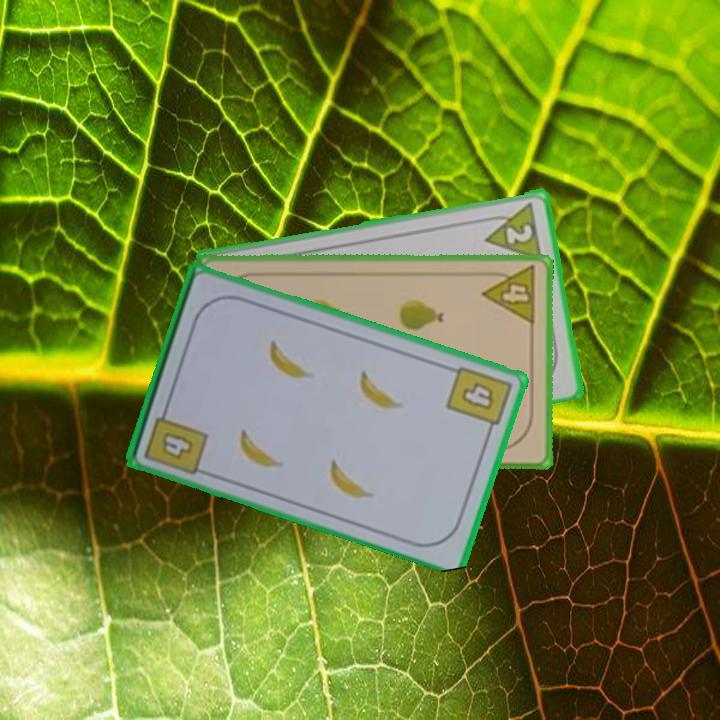2p: (478, 198, 545, 263)
4b: (443, 362, 515, 438), (141, 401, 211, 478)
4p: (479, 262, 539, 327)
